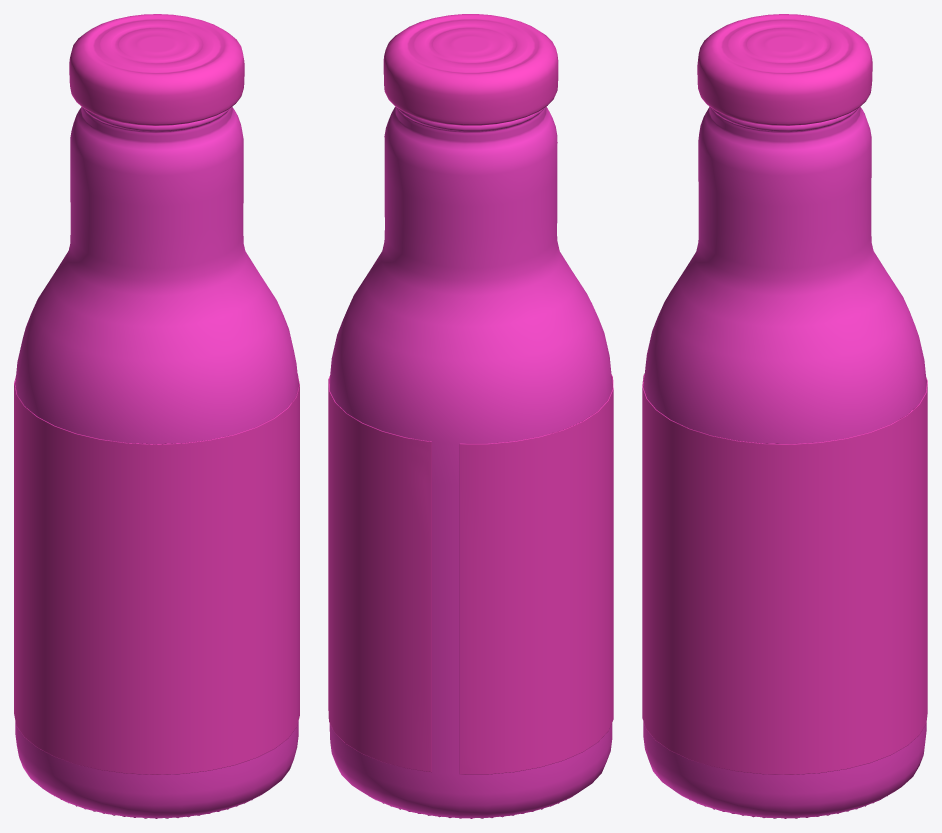
Rendered from hatsu_rosado.fbx.
The picture shows the model from 3 angles, left to right: view 1: azimuth 30°, elevation 25°; view 2: azimuth 150°, elevation 25°; view 3: azimuth 270°, elevation 25°; orthographic projection.
Parts seen in each view (by area): view 1: Bottle.001; view 2: Bottle.001; view 3: Bottle.001.
Boxes of the visible parts, left/top/right/bottom form: Bottle.001: left=14, top=14, right=299, bottom=818; Bottle.001: left=328, top=14, right=613, bottom=818; Bottle.001: left=642, top=14, right=927, bottom=818.
Size of the model in its own units: 6.6 by 18.42 by 6.6.
